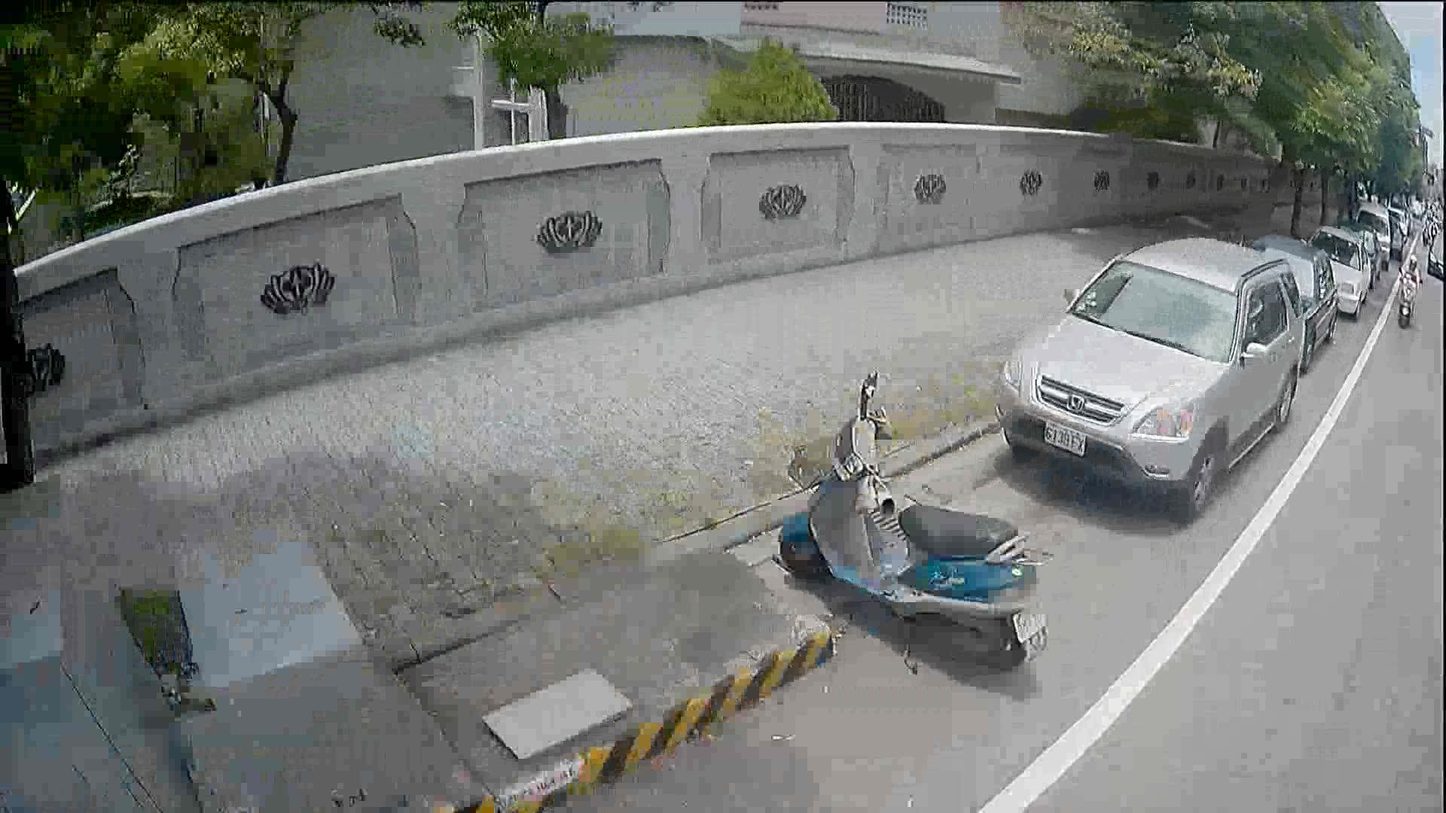person: (1399, 254, 1419, 281)
